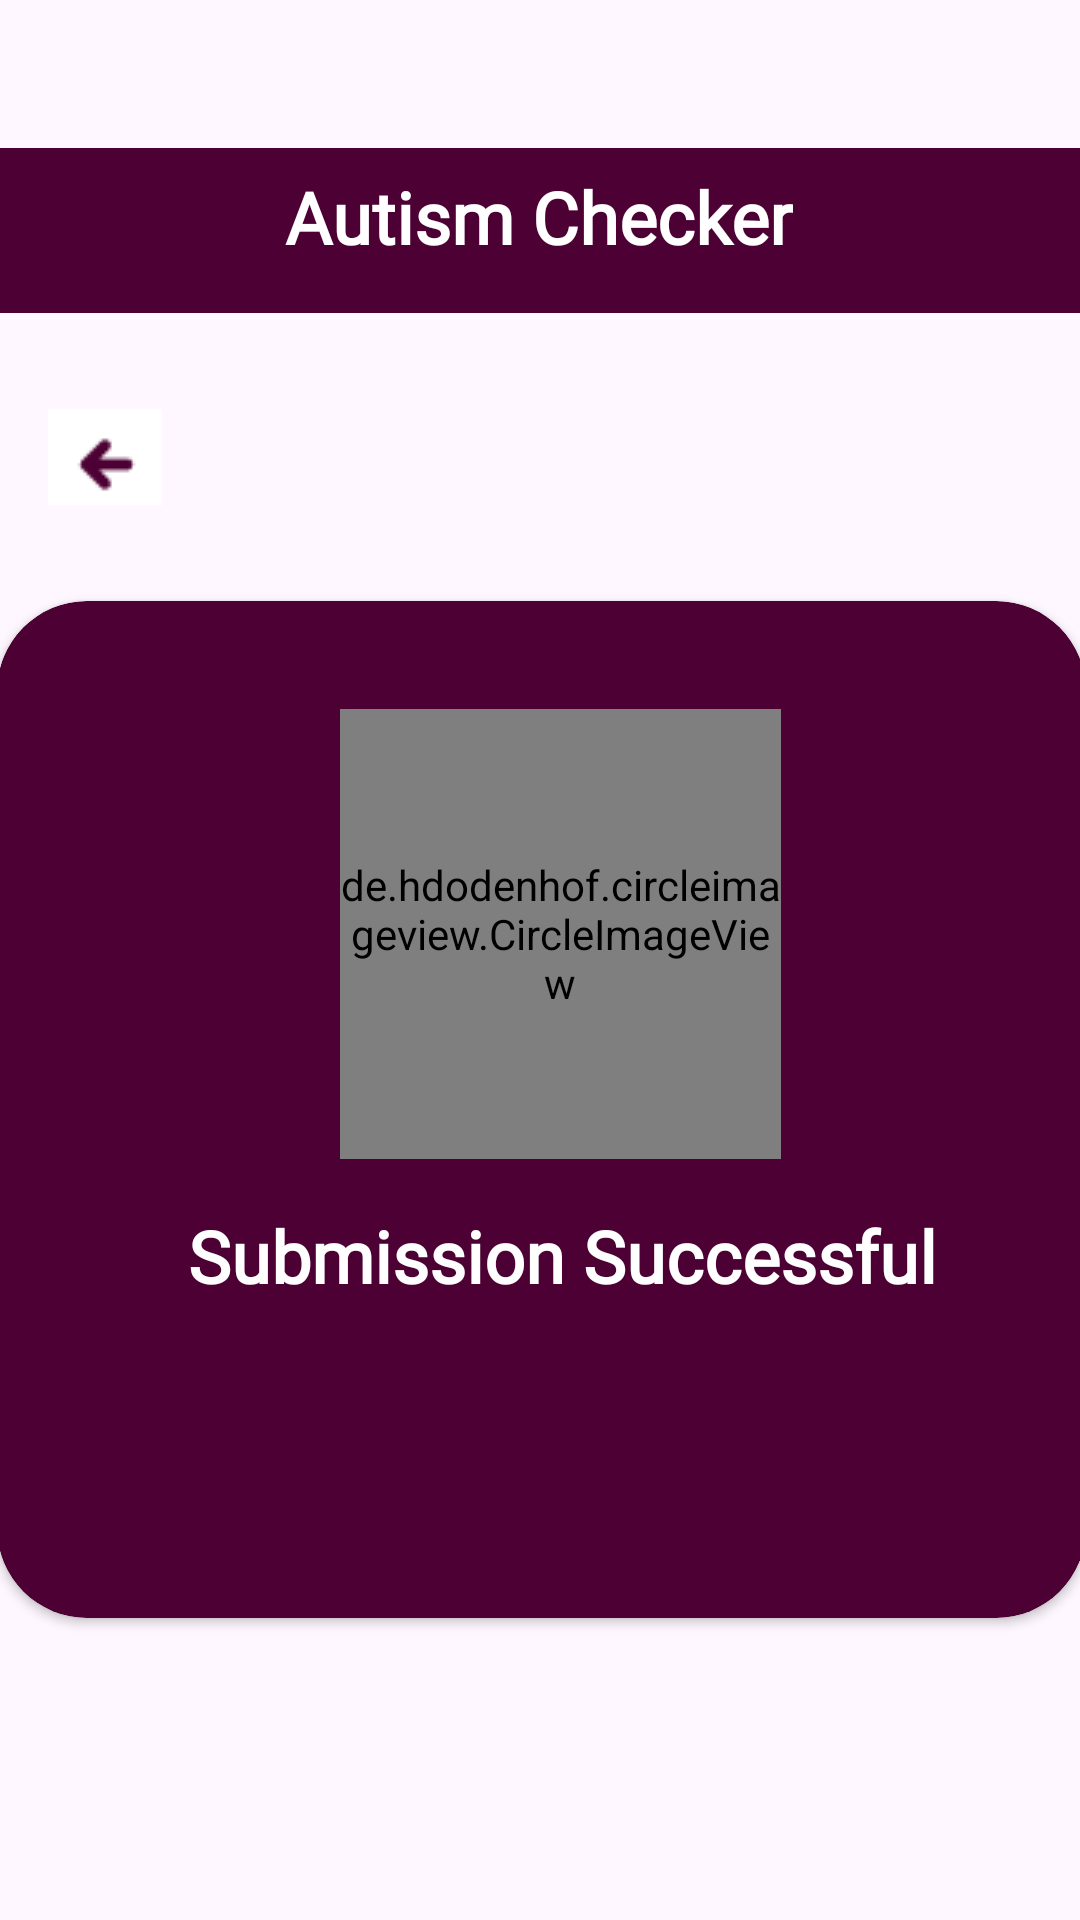

Screen size 1080w x 1920h. Icon name, then its center in pixels as (x=x, y=y):
backarrow: (x=106, y=464)
